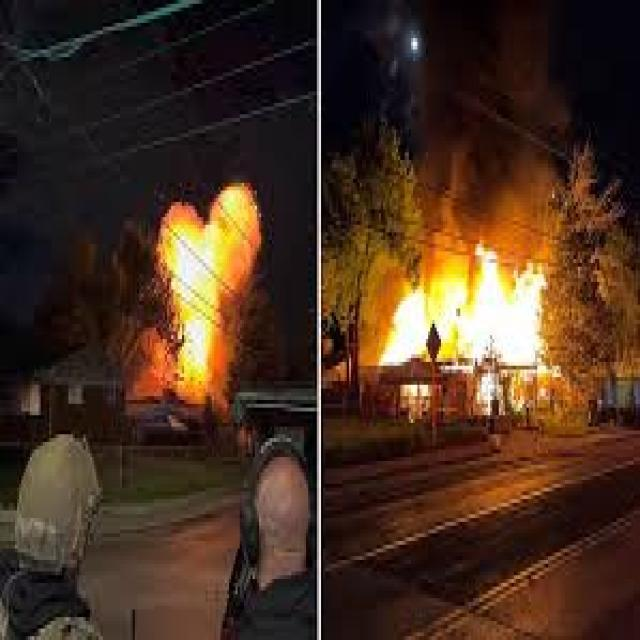fire: (134, 175, 264, 408), (387, 258, 553, 378)
